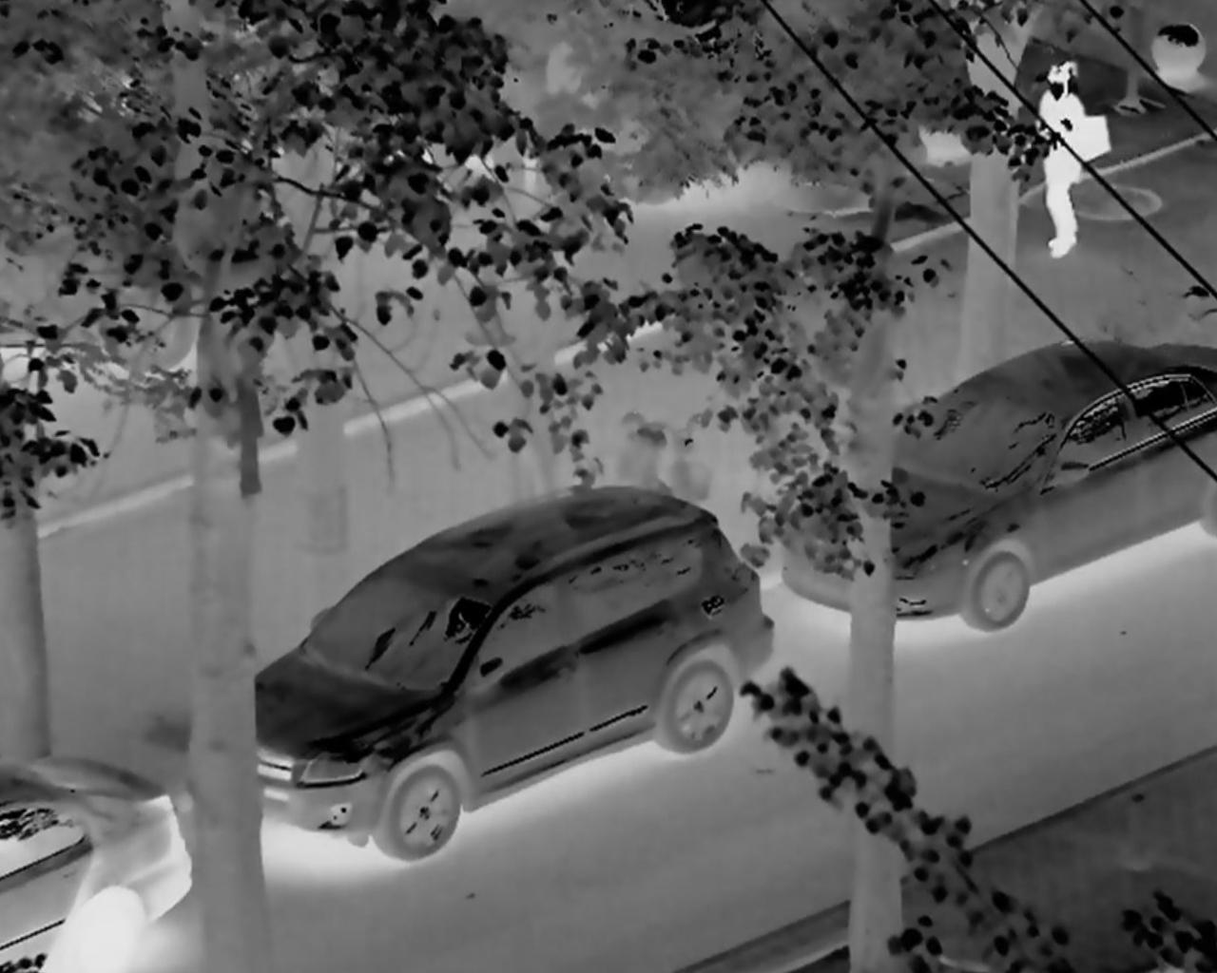person: (1024, 49, 1126, 265)
